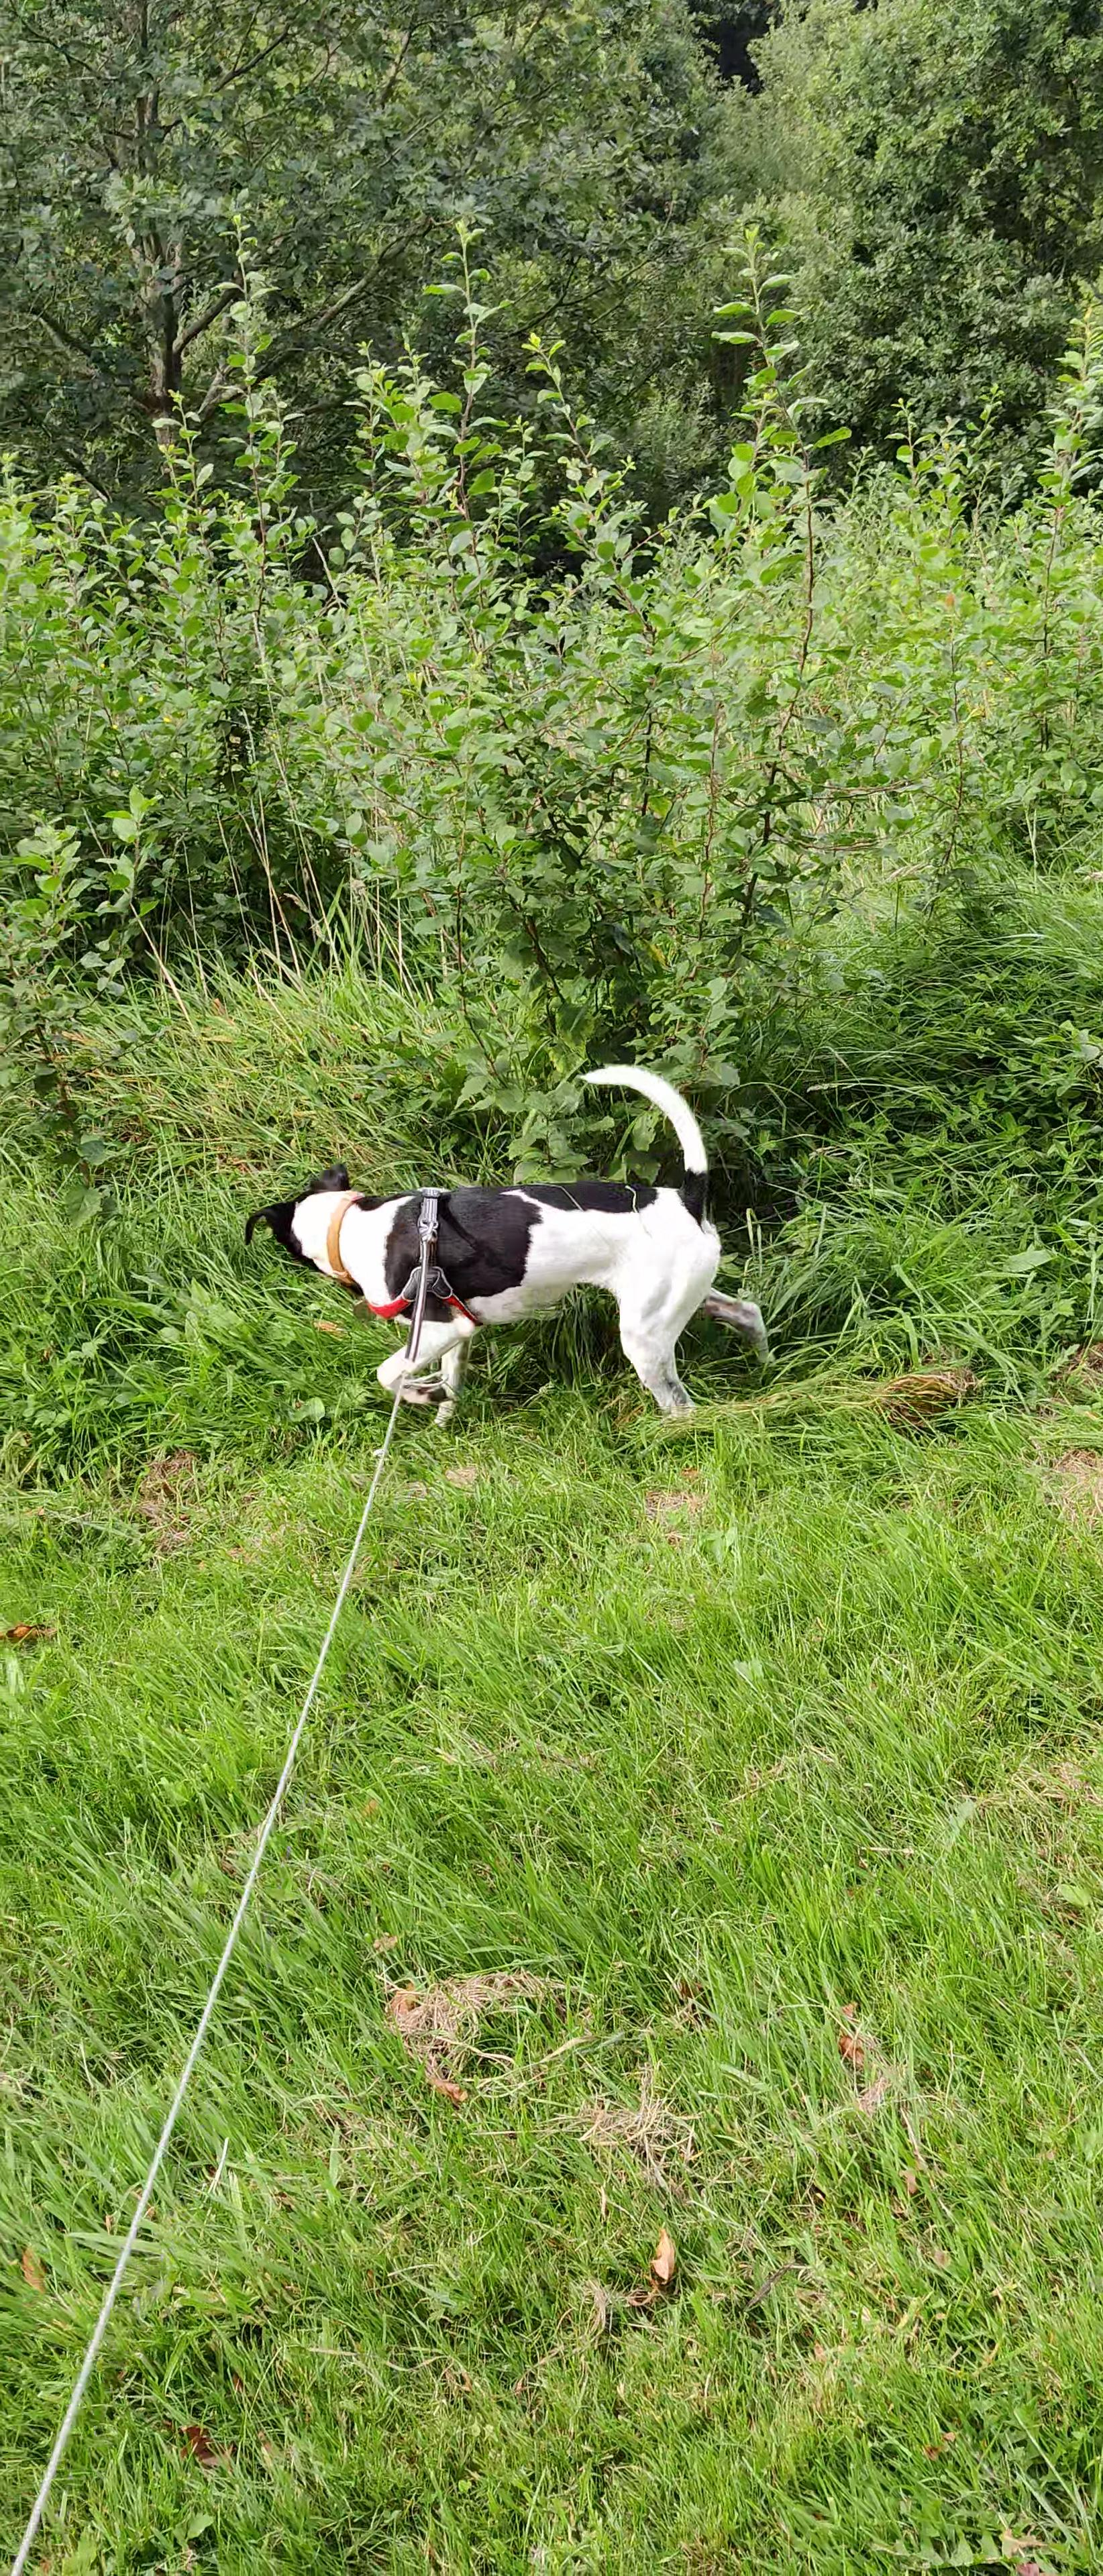Dog: (242, 1058, 779, 1431)
